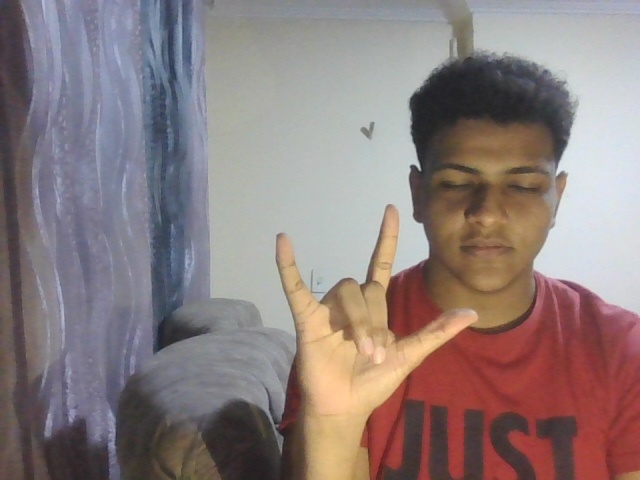iloveyou: (250, 200, 481, 409)
